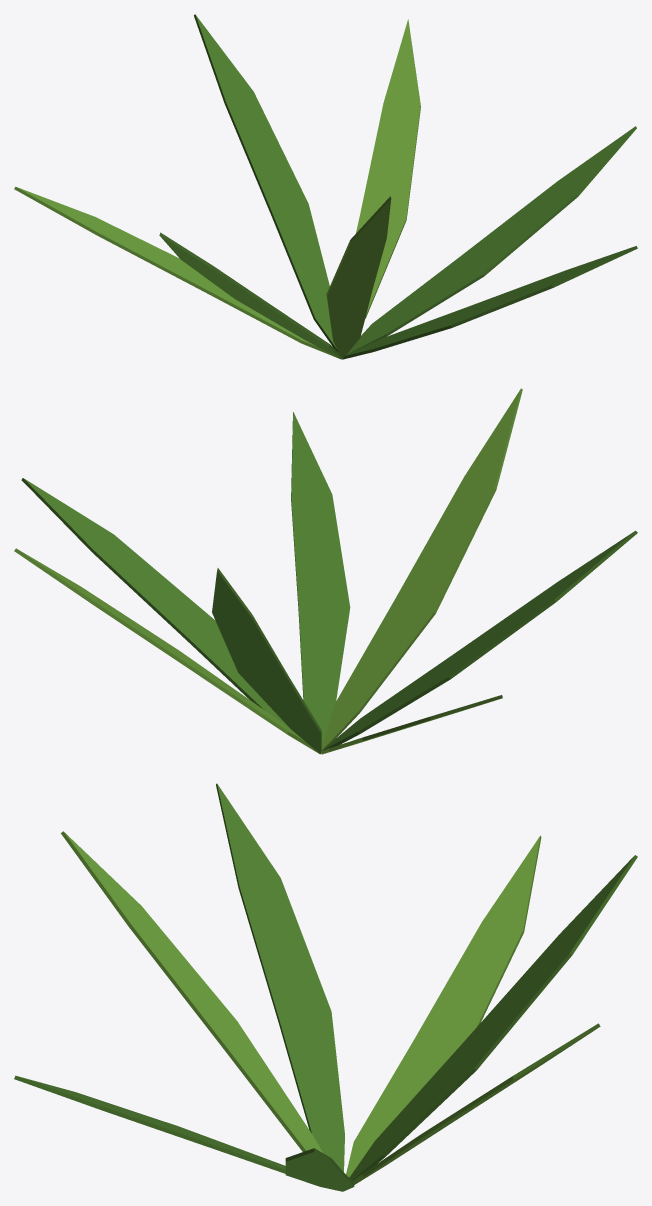
The model's file is SM_Fern.glb.
3 renders of one model, top to bottom at view 1: azimuth 30°, elevation 25°; view 2: azimuth 150°, elevation 25°; view 3: azimuth 270°, elevation 25°, orthographic. The views are drawn at different scales.
Parts seen in each view (by area): view 1: SM_Fern; view 2: SM_Fern; view 3: SM_Fern.
Boxes of the visible parts, bbox=[...] form: SM_Fern: bbox=[14, 14, 637, 359]; SM_Fern: bbox=[14, 388, 637, 754]; SM_Fern: bbox=[14, 783, 637, 1191].
Bounding box in the file's own units: 0.7791 × 0.3707 × 0.6535.
Materials: 1 (1 with a texture image).
